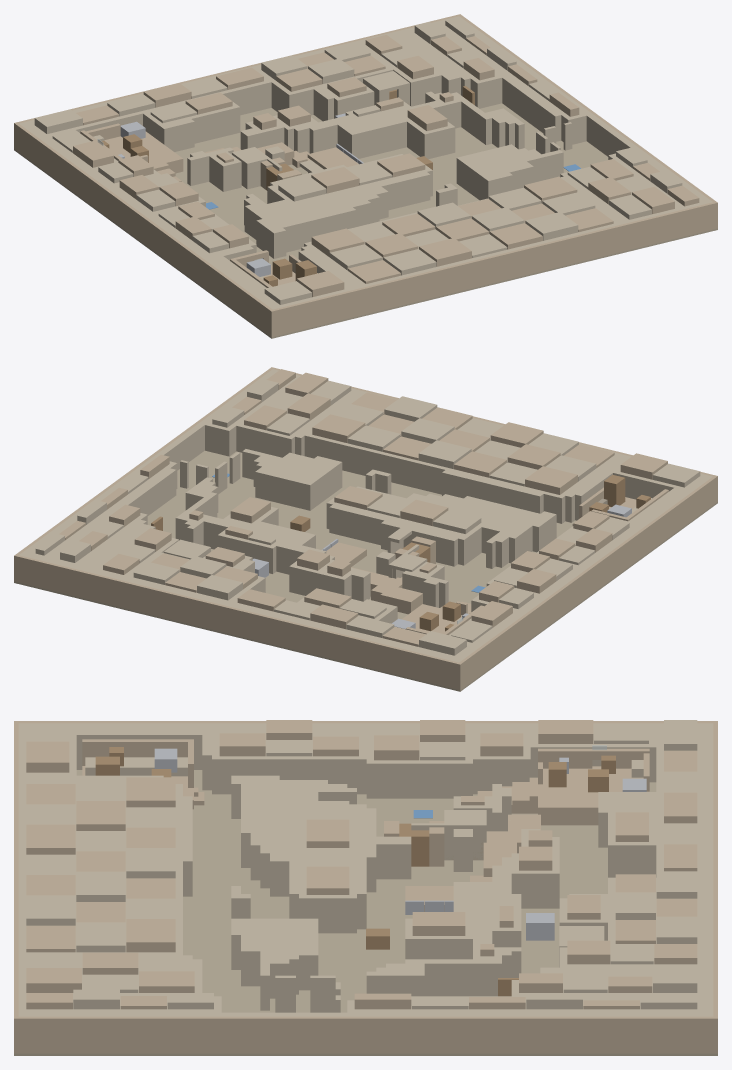
The model's file is de_dust2.glb.
The picture shows the model from 3 angles, top to bottom: view 1: azimuth 30°, elevation 25°; view 2: azimuth 150°, elevation 25°; view 3: azimuth 270°, elevation 25°; orthographic projection. The views are drawn at different scales.
Parts seen in each view (by area): view 1: box_003_wall, box_000_floor, box_001_wall, box_089_wall, box_048_wall, box_085_wall, box_092_wall, box_059_wall, box_084_wall, box_068_wall, box_108_wall, box_086_wall (+83 smaller); view 2: box_004_wall, box_000_floor, box_001_wall, box_044_wall, box_048_wall, box_041_wall, box_060_wall, box_055_wall, box_046_wall, box_089_wall, box_038_wall, box_108_wall (+79 smaller); view 3: box_000_floor, box_002_wall, box_039_wall, box_090_wall, box_056_wall, box_048_wall, box_044_wall, box_197_platform, box_038_wall, box_087_wall, box_084_wall, box_062_wall (+139 smaller).
Part boxes in pixels (<box>): box_003_wall: <box>273,202,714,336</box>; box_000_floor: <box>14,103,717,338</box>; box_001_wall: <box>14,122,274,336</box>; box_089_wall: <box>434,24,561,141</box>; box_048_wall: <box>457,19,712,203</box>; box_085_wall: <box>27,77,271,136</box>; box_092_wall: <box>345,116,406,158</box>; box_059_wall: <box>255,172,430,239</box>; box_084_wall: <box>143,102,240,143</box>; box_068_wall: <box>267,207,356,256</box>; box_108_wall: <box>19,122,278,309</box>; box_086_wall: <box>400,114,455,158</box>; box_004_wall: <box>17,555,458,689</box>; box_000_floor: <box>14,450,717,691</box>; box_001_wall: <box>457,475,717,689</box>; box_044_wall: <box>304,392,620,523</box>; box_048_wall: <box>22,369,278,554</box>; box_041_wall: <box>442,470,543,513</box>; box_060_wall: <box>329,504,467,565</box>; box_055_wall: <box>255,466,317,510</box>; box_046_wall: <box>236,388,358,457</box>; box_089_wall: <box>47,468,176,560</box>; box_038_wall: <box>19,553,461,662</box>; box_108_wall: <box>454,475,712,661</box>; box_000_floor: <box>14,770,717,1055</box>; box_002_wall: <box>14,1016,717,1053</box>; box_039_wall: <box>212,726,366,794</box>; box_090_wall: <box>366,726,472,798</box>; box_056_wall: <box>299,804,356,933</box>; box_048_wall: <box>18,1012,704,1016</box>; box_044_wall: <box>18,784,182,955</box>; box_197_platform: <box>538,766,649,825</box>; box_038_wall: <box>703,723,713,1016</box>; box_087_wall: <box>405,959,501,996</box>; box_084_wall: <box>608,792,656,877</box>; box_062_wall: <box>270,780,289,896</box>.
Bounding box in the file's own units: 4664 × 344 × 4664.
